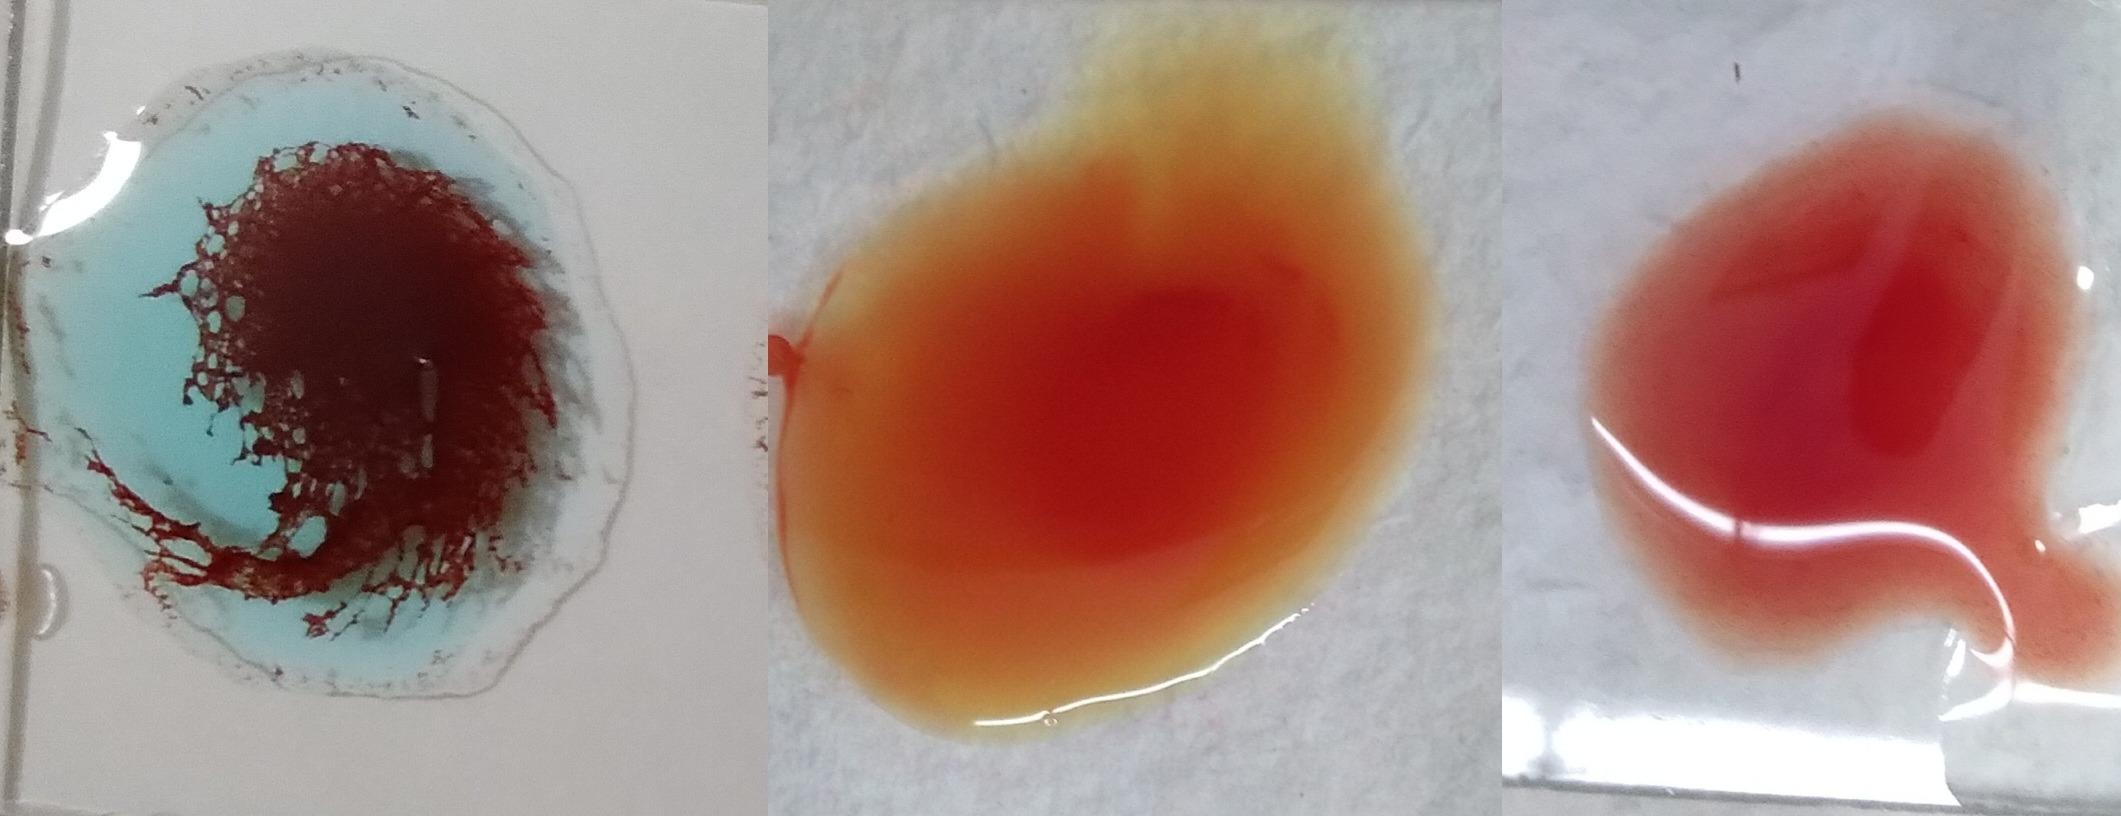A: (30, 41, 651, 712)
